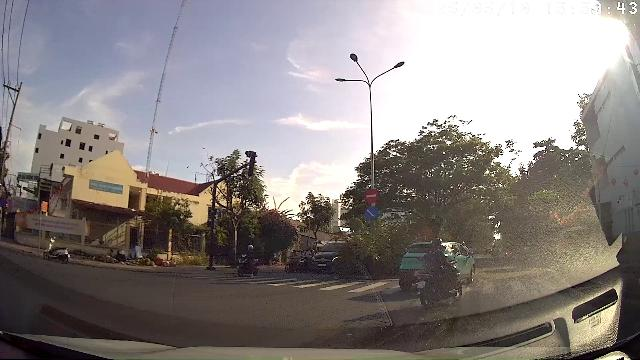102-cam-di-nguoc-chieu: (365, 188, 379, 203)
302a-huong-phai-di-vong-chuong-ngai-vat-1: (364, 206, 379, 220)
